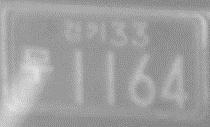1: (65, 48, 96, 106), (97, 50, 126, 106)
3: (108, 19, 129, 49), (131, 20, 149, 49)
4: (160, 53, 188, 108)
6: (127, 52, 156, 107)
경기_O: (62, 20, 107, 43)
무: (18, 46, 54, 84)
